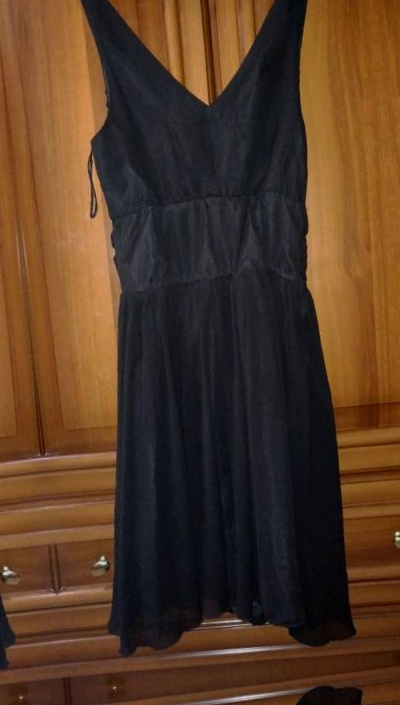Dress: (15, 0, 400, 676), (0, 0, 42, 705), (93, 673, 400, 705), (397, 0, 400, 636)
